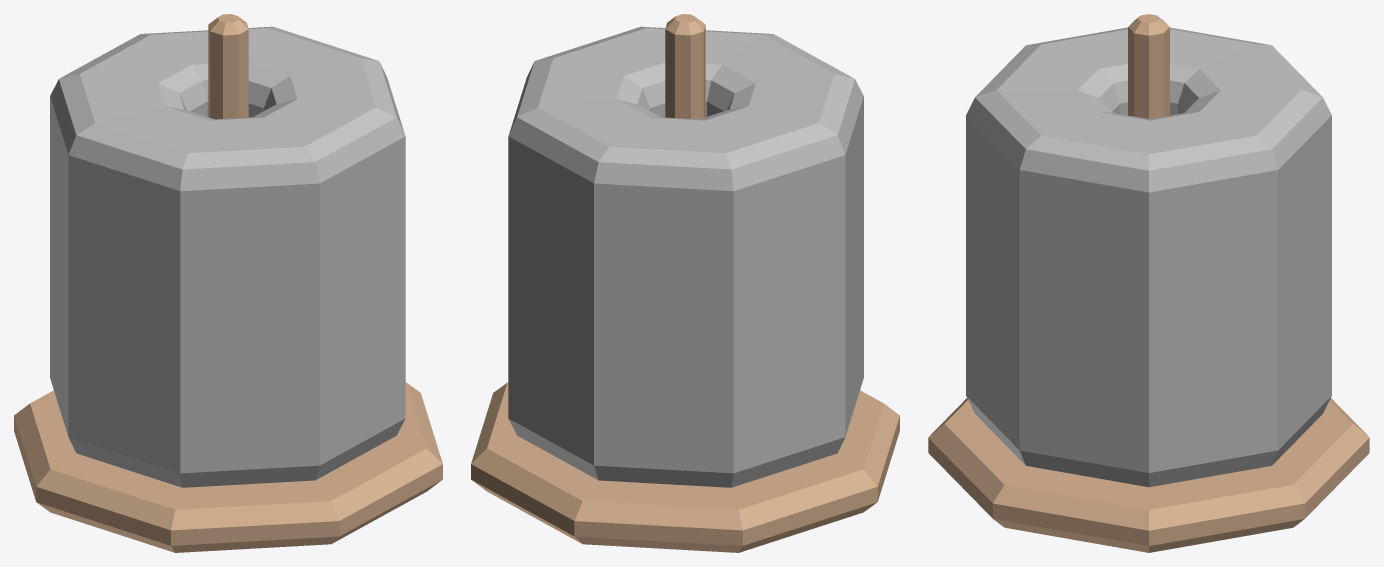
Rendered from PaperRoll.fbx.
3 renders of one model, left to right at view 1: azimuth 30°, elevation 25°; view 2: azimuth 150°, elevation 25°; view 3: azimuth 270°, elevation 25°, orthographic.
Visible parts, largest first — view 1: PaperRoll; view 2: PaperRoll; view 3: PaperRoll.
Boxes of the visible parts, <box> form: PaperRoll: <box>14,14,442,552</box>; PaperRoll: <box>471,14,899,552</box>; PaperRoll: <box>928,14,1369,552</box>.
Bounding box in the file's own units: 0.2659 × 0.2978 × 0.2659.
Materials: 1 (1 with a texture image).
